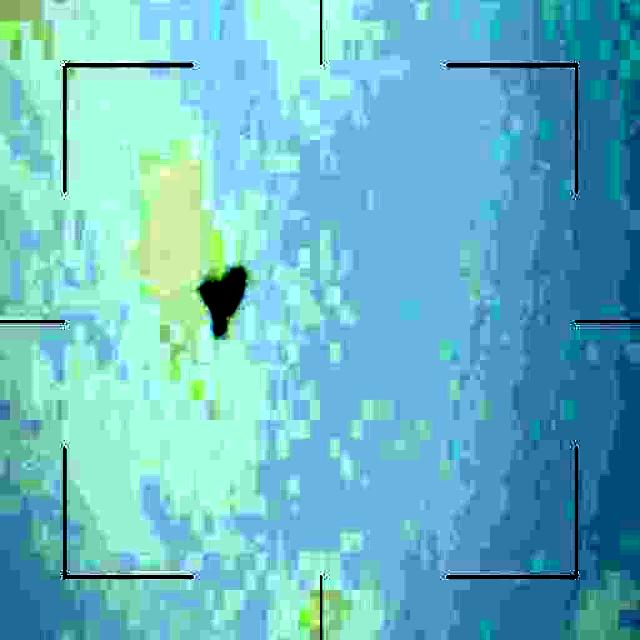bird: (198, 269, 254, 339)
